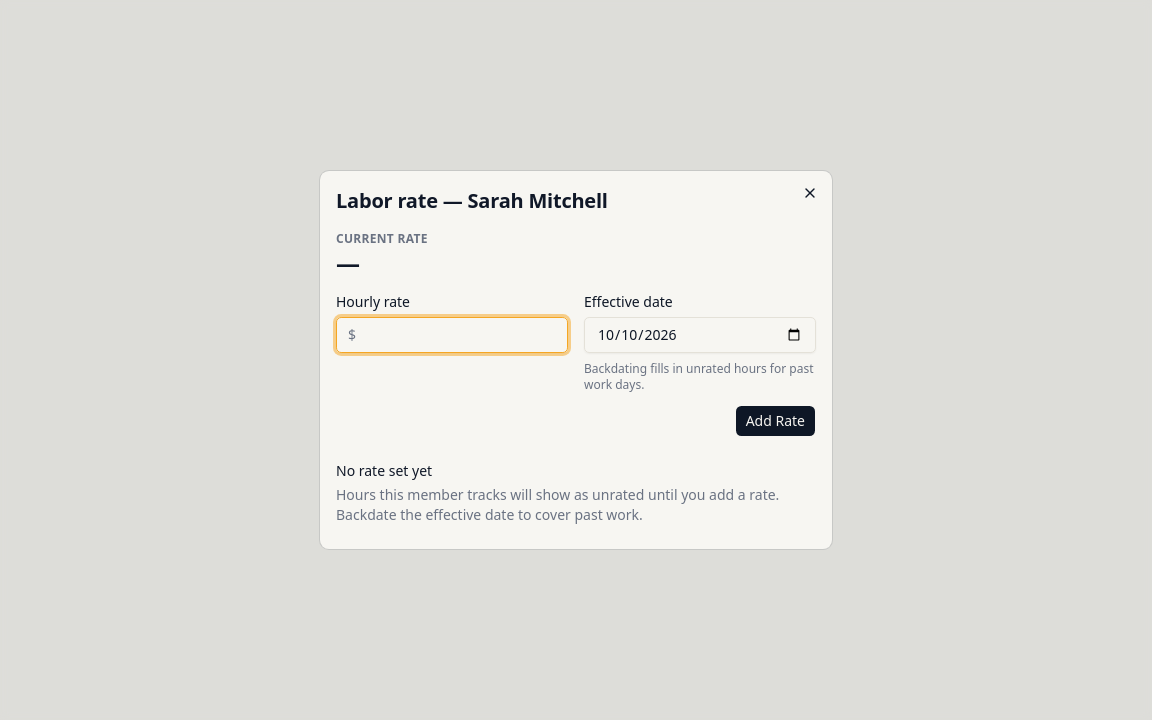
Test: RateHistoryDialog › blocks submission with a zero amount
The width and height of the screenshot is (1152, 720).
Type "0" into the field labelled "Hourly rate" at x=452, y=335, box [336, 317, 568, 353]
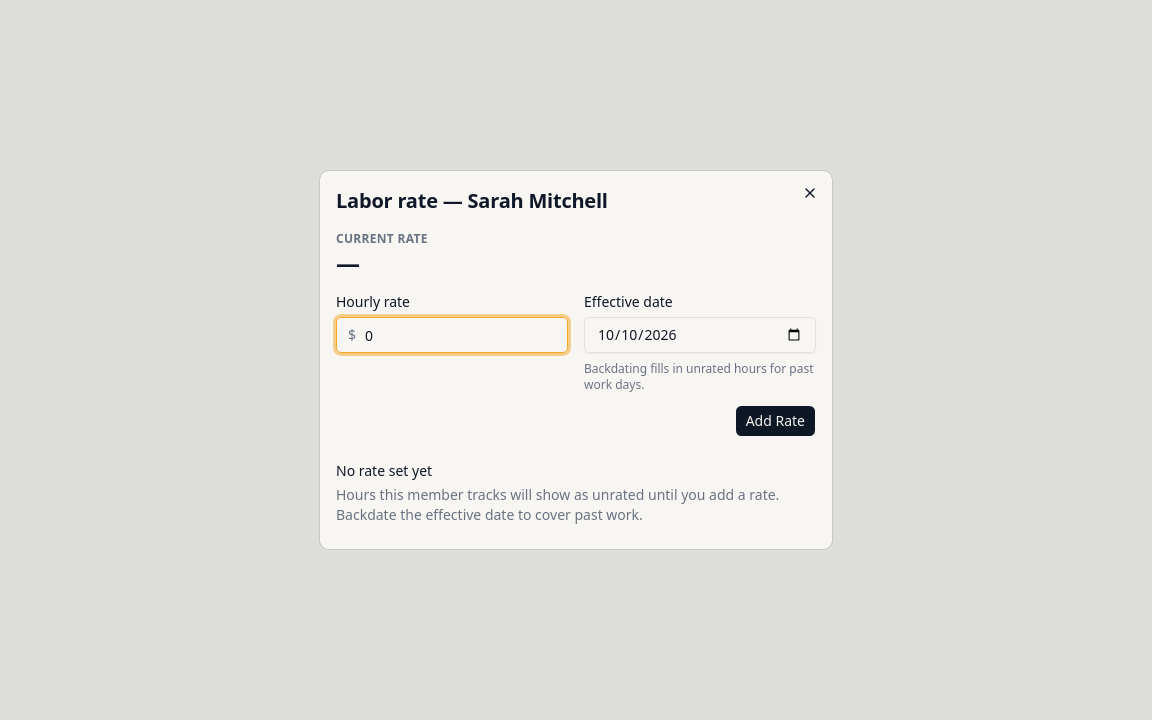
Click the button "Add Rate" at x=775, y=421, box [735, 405, 816, 437]
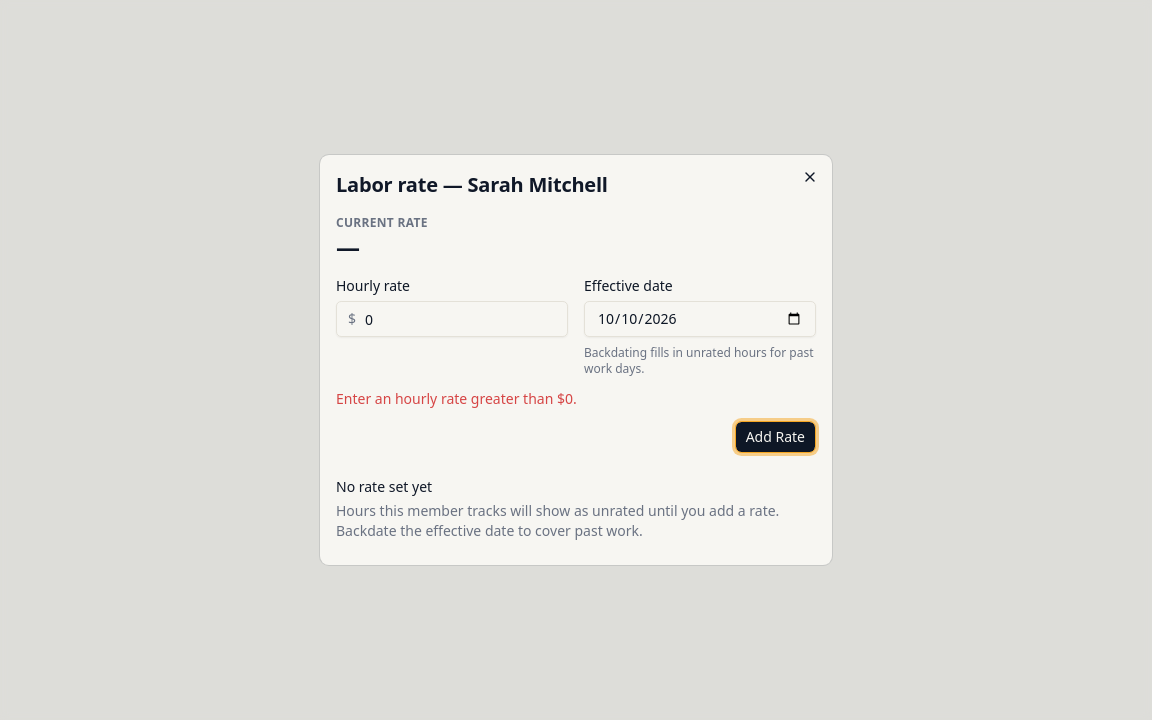
Expected: the text "Enter an hourly rate greater than $0." is shown, [336, 389, 577, 408]
